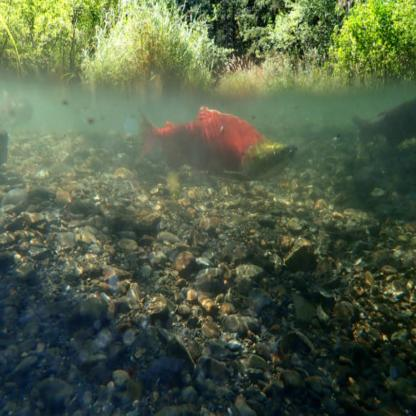sockeye: (134, 96, 296, 186)
